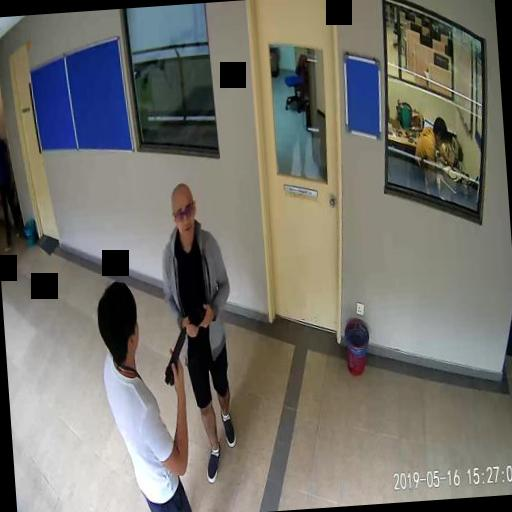Handgun: (161, 326, 189, 386)
